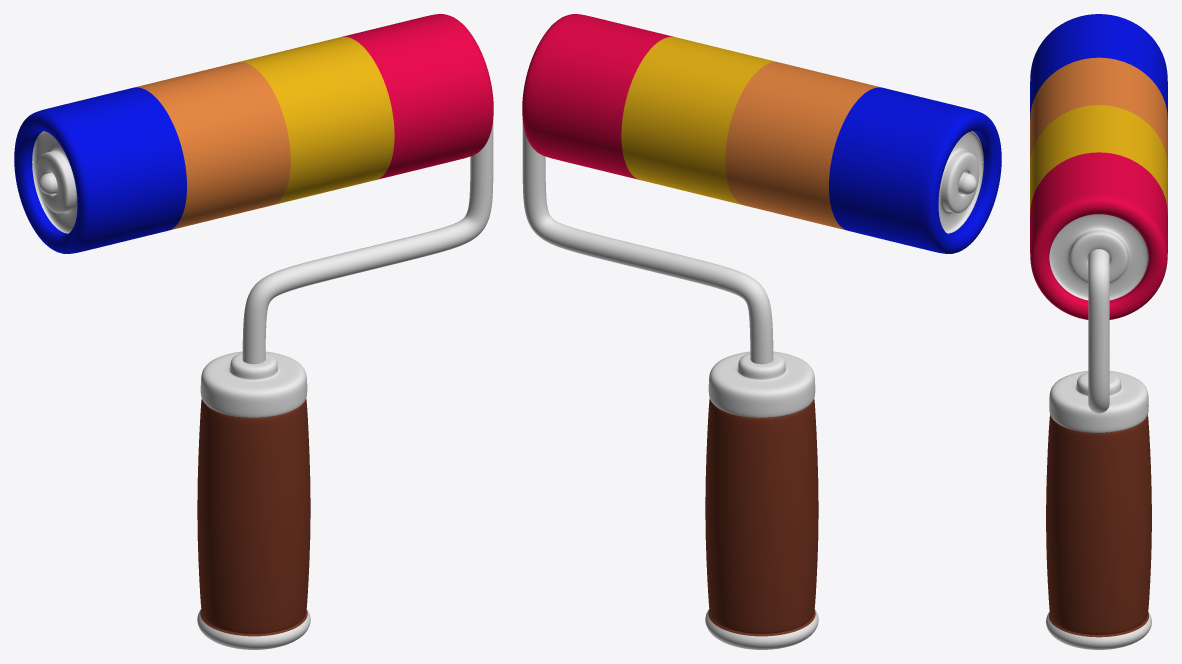
The model's file is roll-brush.glb.
The picture shows the model from 3 angles, left to right: view 1: azimuth 30°, elevation 25°; view 2: azimuth 150°, elevation 25°; view 3: azimuth 270°, elevation 25°; orthographic projection. The views are drawn at different scales.
Visible parts, largest first — view 1: Cylinder.015; view 2: Cylinder.015; view 3: Cylinder.015.
Boxes of the visible parts, x1=… form: Cylinder.015: x1=14, y1=14, x2=493, y2=649; Cylinder.015: x1=522, y1=14, x2=1001, y2=649; Cylinder.015: x1=1030, y1=14, x2=1167, y2=649.
Bounding box in the file's own units: 1.56 × 1.88 × 0.4407.
